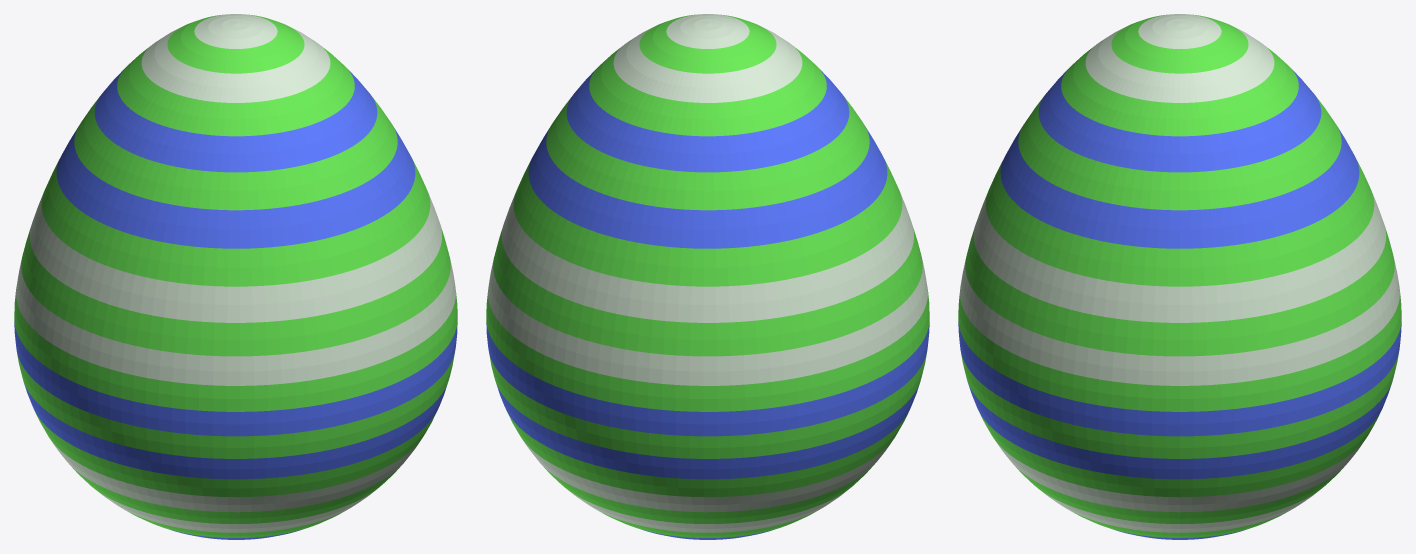
The model's file is greenegg.glb.
3 renders of one model, left to right at view 1: azimuth 30°, elevation 25°; view 2: azimuth 150°, elevation 25°; view 3: azimuth 270°, elevation 25°, orthographic.
Parts seen in each view (by area): view 1: Sphere; view 2: Sphere; view 3: Sphere.
Part boxes in pixels (left/top/right/bottom): Sphere: left=14, top=14, right=457, bottom=539; Sphere: left=486, top=14, right=929, bottom=539; Sphere: left=958, top=14, right=1401, bottom=539.
Size of the model in its own units: 2 by 2.46 by 2.
